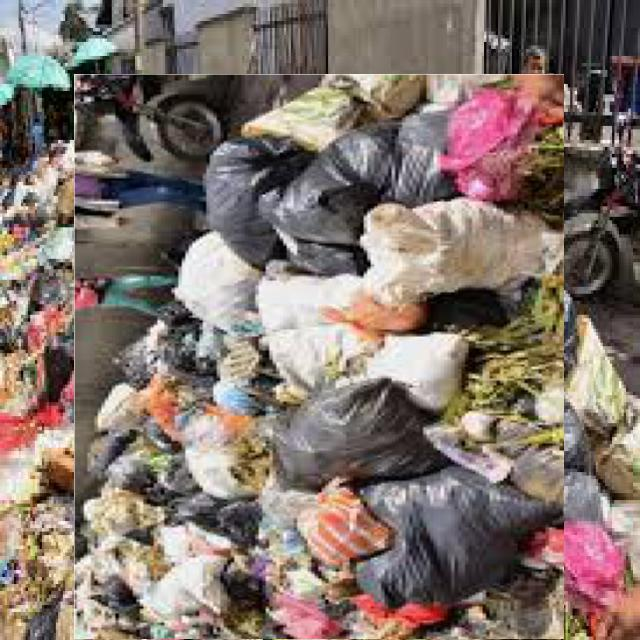Trashbag: (285, 107, 462, 286), (341, 465, 549, 609), (273, 374, 438, 496), (202, 134, 296, 266)
